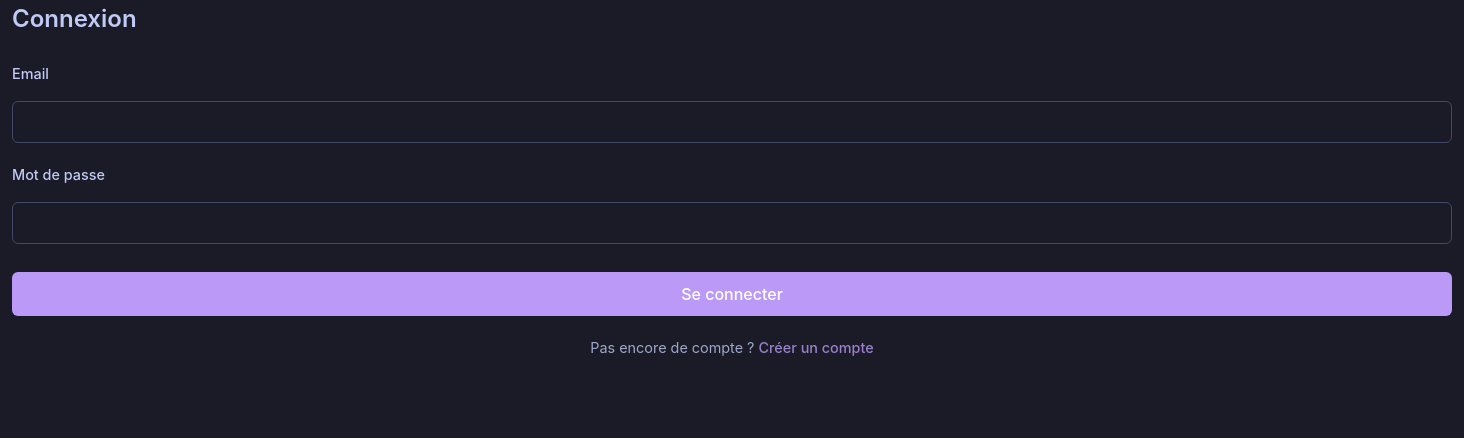
Test case: LoginForm › devrait afficher un message d'erreur clair en cas d'échec 401
Type "test@example.com" into the field labelled "Email" at (732, 122), box top-left (12, 101), bottom-right (1452, 143)
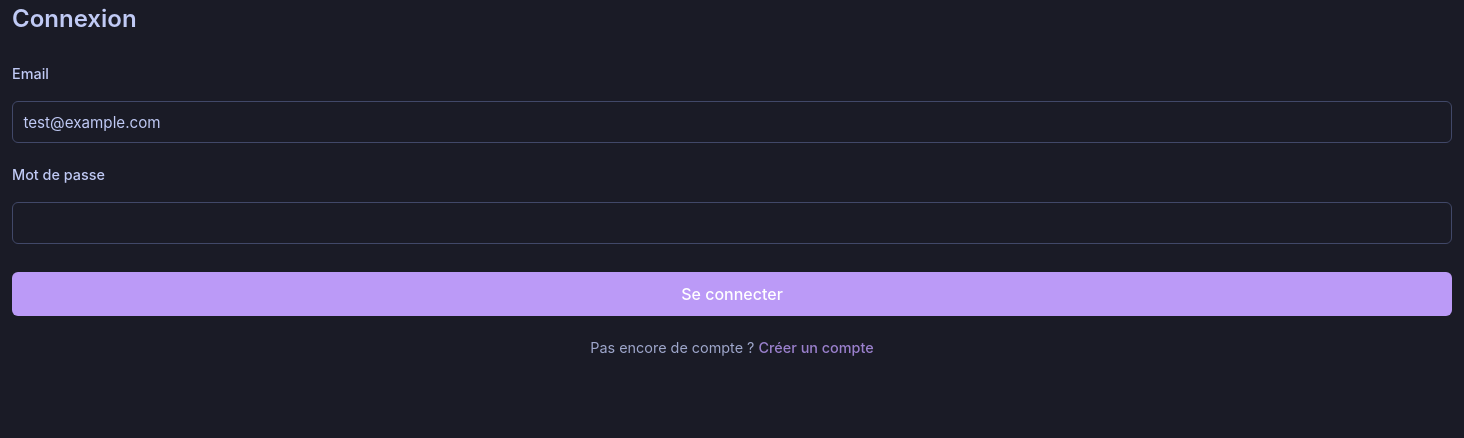
Type "wrongpassword" into the password field labelled "Mot de passe" at (732, 223), box top-left (12, 202), bottom-right (1452, 244)
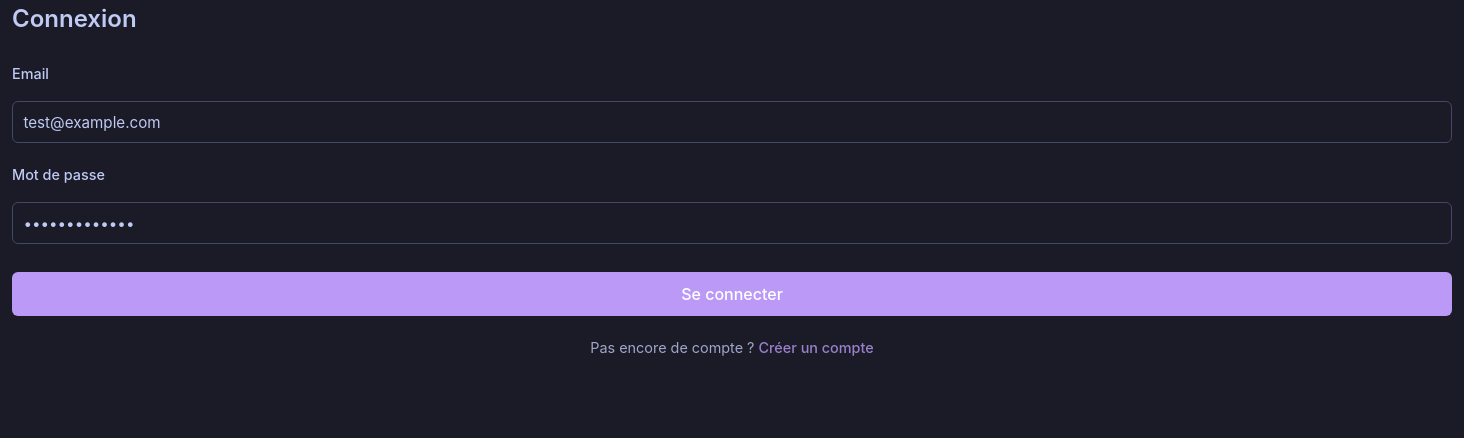
Submit the form
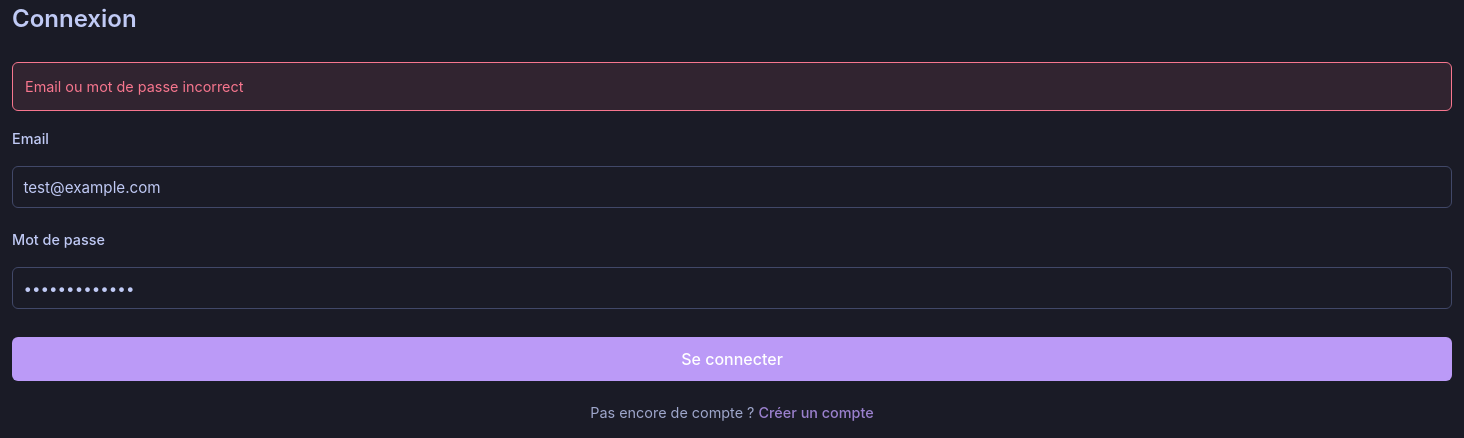
Expected: the form shows "Email ou mot de passe incorrect", top-left (25, 78), bottom-right (243, 95)
